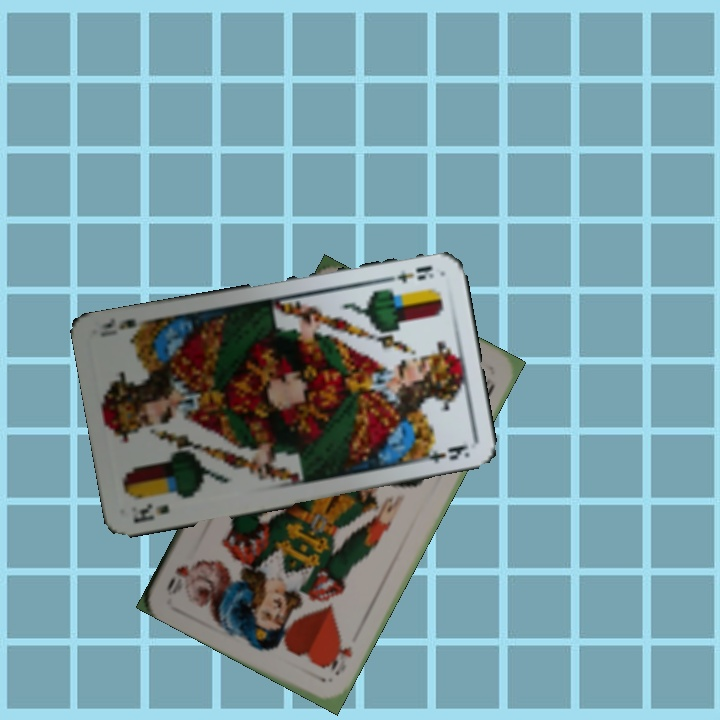EK: (381, 262, 436, 286), (129, 499, 172, 526)
HO: (323, 635, 355, 678)
